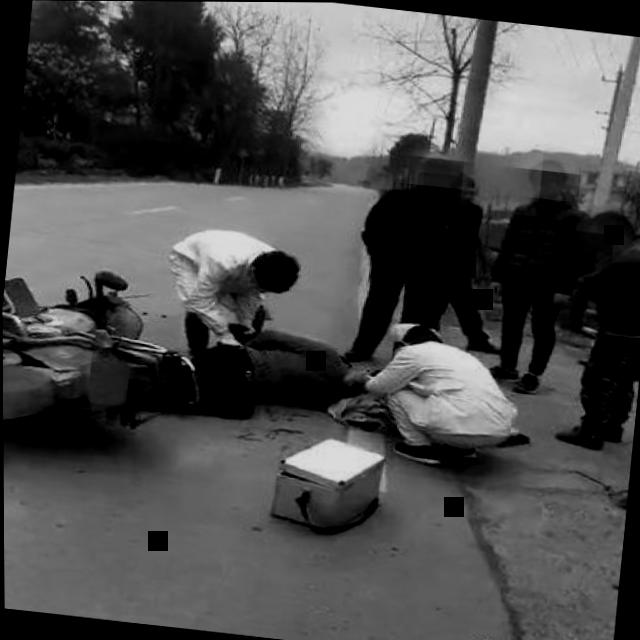Fall-Detected: (133, 292, 384, 444)
